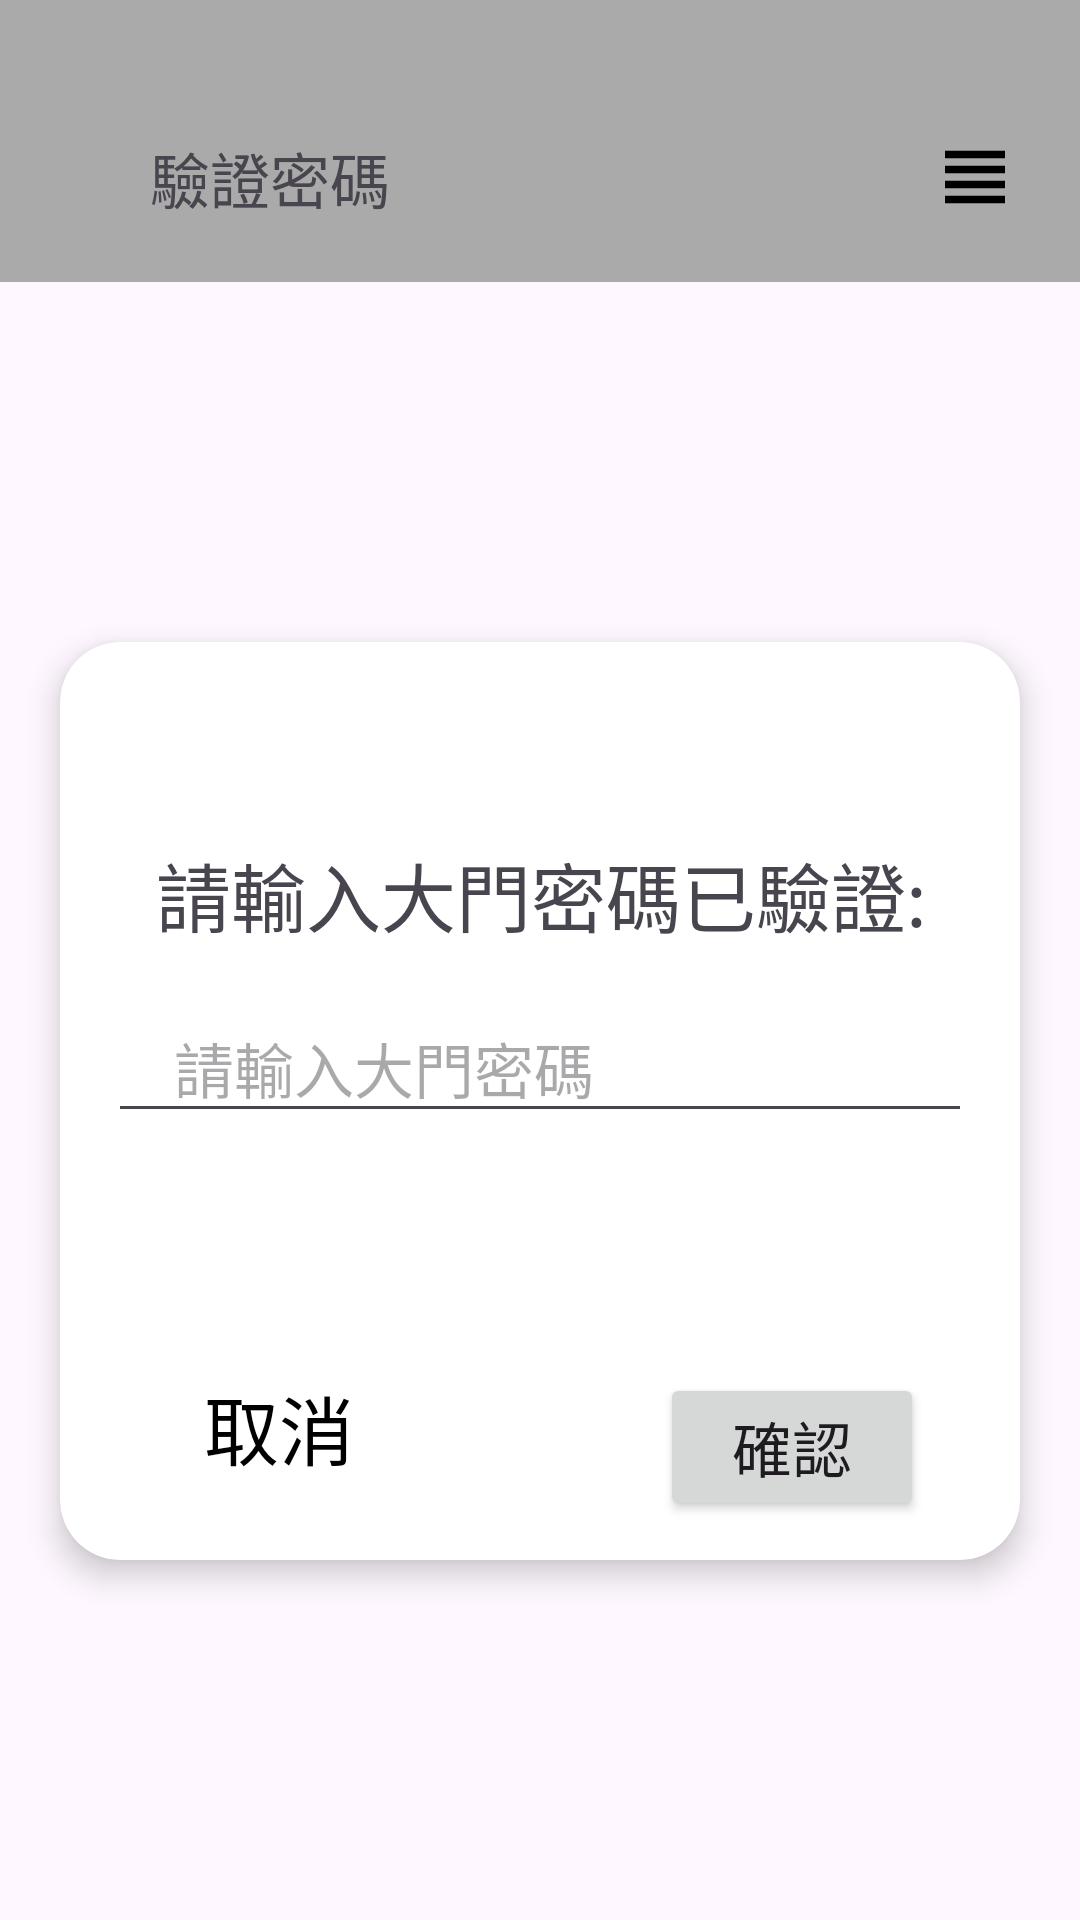

Named icons in this screenshot (1080 × 1920) and their centers, point (x, y):
其他: point (975, 177)
